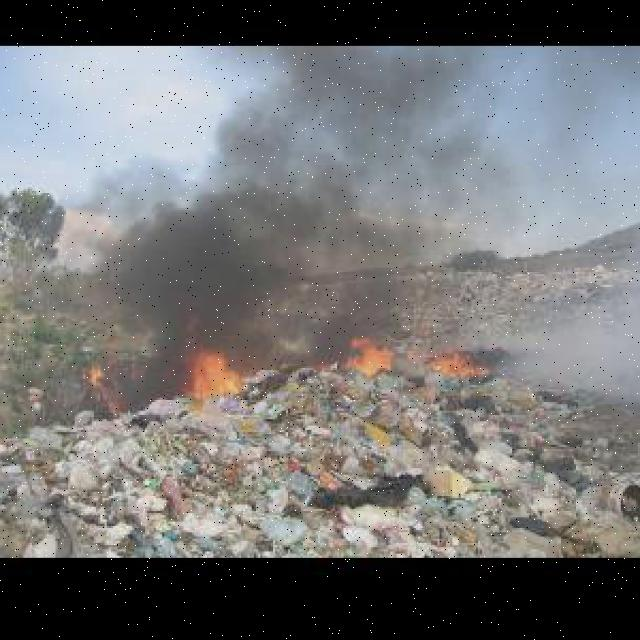fire: (186, 345, 245, 404), (339, 328, 399, 374), (429, 344, 488, 383), (90, 366, 122, 419)
smoke: (318, 46, 640, 327), (77, 142, 316, 351)
